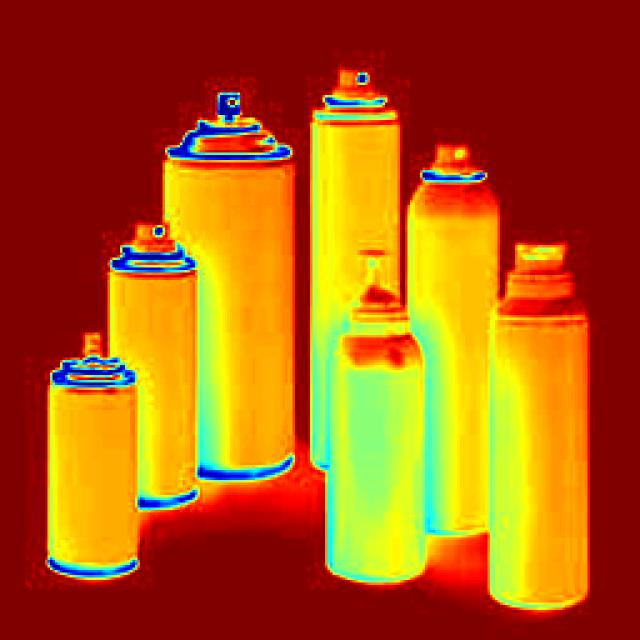Aerosol Cans: (172, 83, 298, 479), (402, 128, 502, 555), (489, 239, 599, 614), (39, 318, 149, 608), (106, 218, 210, 524), (340, 247, 430, 593), (304, 66, 408, 283)
